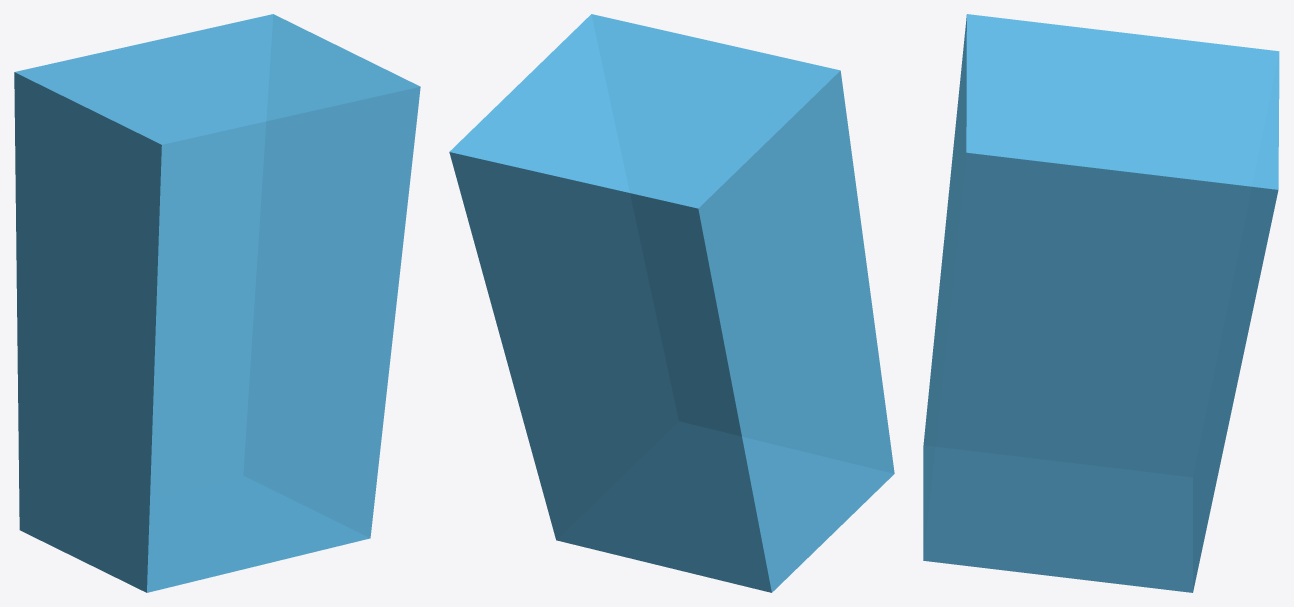
File: Event_421556567_HBrechit_14.fbx
3 views of the same model, side by side, from view 1: azimuth 30°, elevation 25°; view 2: azimuth 150°, elevation 25°; view 3: azimuth 270°, elevation 25° (orthographic). The views are drawn at different scales.
Parts seen in each view (by area): view 1: Model; view 2: Model; view 3: Model.
Part boxes in pixels (left/top/right/bottom): Model: left=14, top=14, right=420, bottom=592; Model: left=449, top=14, right=894, bottom=592; Model: left=923, top=14, right=1279, bottom=592.
Size of the model in its own units: 0.5313 by 0.7853 by 0.526.
